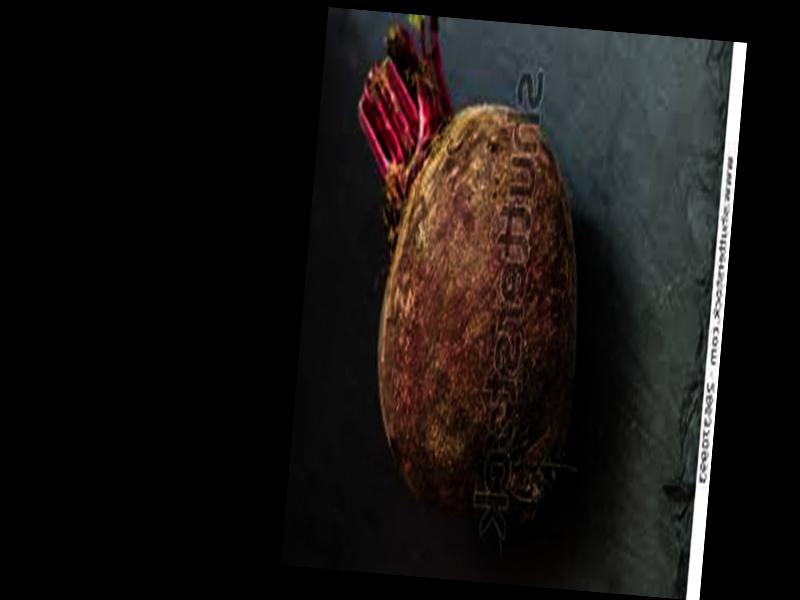Beet: (326, 14, 604, 530)
